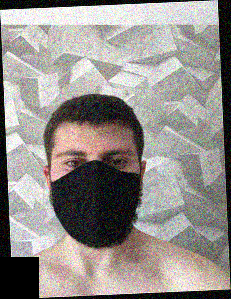with_mask: (51, 139, 141, 249)
